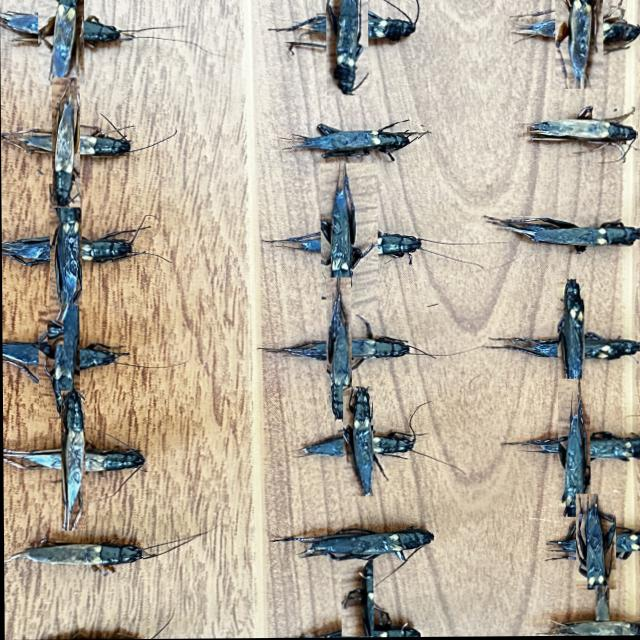no_egg: (319, 164, 377, 310), (275, 528, 431, 561), (486, 218, 639, 250), (38, 306, 79, 419), (557, 380, 590, 518), (527, 108, 637, 148), (555, 0, 603, 89), (293, 124, 418, 158), (50, 183, 82, 312), (39, 0, 84, 86), (575, 495, 615, 591), (51, 78, 80, 208), (326, 278, 351, 422), (558, 279, 584, 416), (326, 0, 363, 96), (61, 391, 85, 531), (343, 387, 373, 497), (11, 544, 142, 568), (341, 561, 373, 638), (559, 622, 640, 637), (594, 587, 609, 637), (46, 321, 63, 345)
